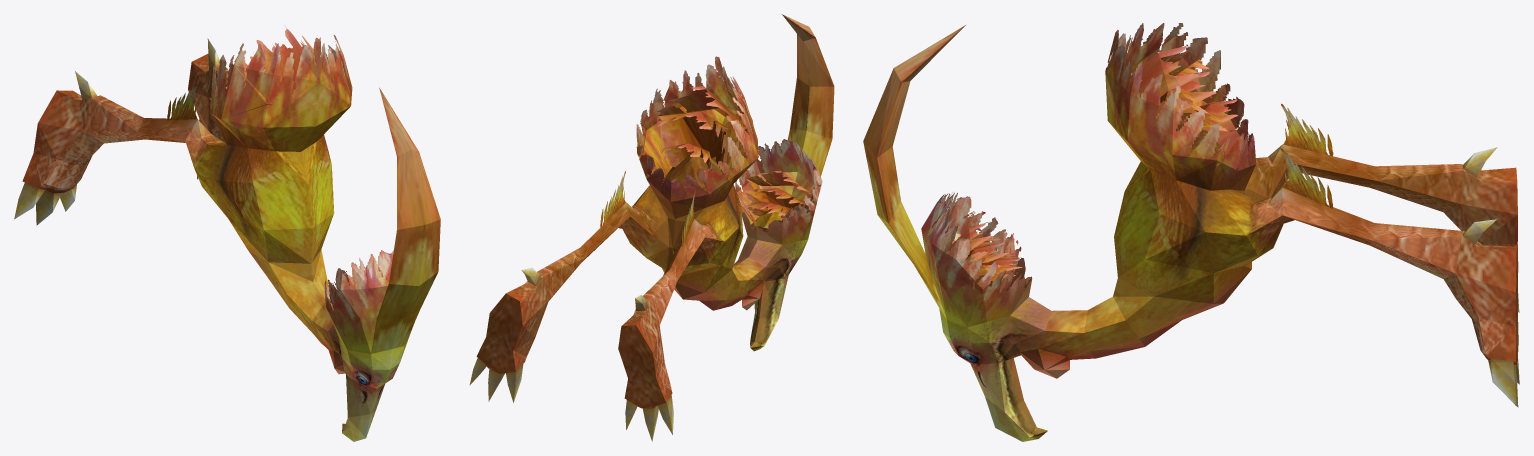
The model's file is animal_daluniao.obj.
3 views of the same model, side by side, from view 1: azimuth 30°, elevation 25°; view 2: azimuth 150°, elevation 25°; view 3: azimuth 270°, elevation 25° (orthographic). The views are drawn at different scales.
Visible parts, largest first — view 1: a; view 2: a; view 3: a.
Part boxes in pixels (left/top/right/bottom): a: left=14, top=25, right=440, bottom=441; a: left=469, top=14, right=834, bottom=441; a: left=863, top=23, right=1519, bottom=441.
Size of the model in its own units: 19.44 by 29.54 by 41.62.
Materials: 1 (1 with a texture image).
